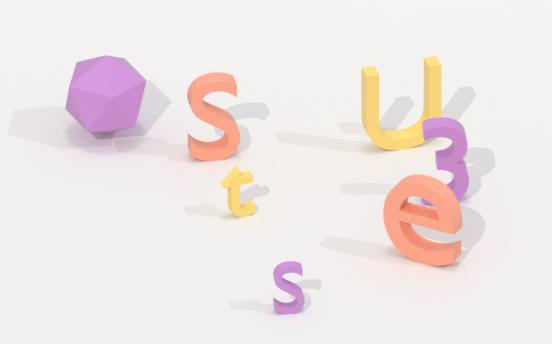3: (408, 117, 478, 203)
dagiac: (56, 56, 154, 132)
e: (381, 173, 470, 270)
s: (186, 73, 244, 165), (268, 261, 311, 318)
t: (217, 164, 264, 222)
u: (347, 57, 455, 153)
